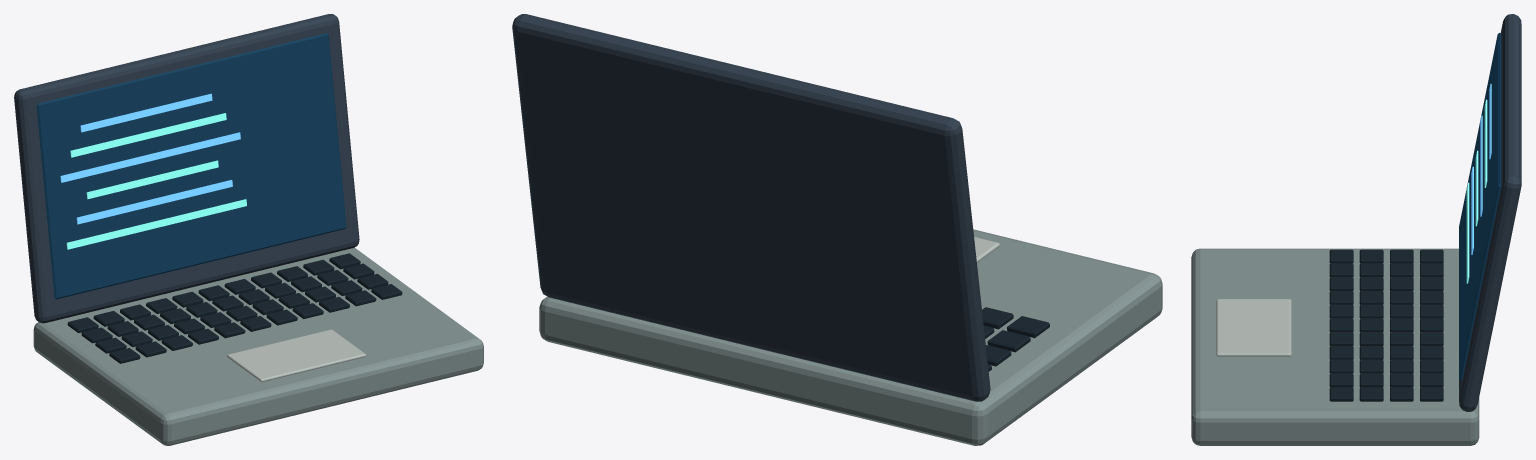
Rendered from laptop.glb.
3 renders of one model, left to right at view 1: azimuth 30°, elevation 25°; view 2: azimuth 150°, elevation 25°; view 3: azimuth 270°, elevation 25°, orthographic. The views are drawn at different scales.
Parts seen in each view (by area): view 1: laptop__screen, laptop__metal_light, laptop__metal, laptop__black, laptop__steel, laptop__code_blue, laptop__code_teal; view 2: laptop__metal, laptop__metal_light, laptop__black; view 3: laptop__metal_light, laptop__black, laptop__metal, laptop__screen, laptop__steel, laptop__code_teal, laptop__code_blue.
Boxes of the visible parts, left/top/right/bottom form: laptop__screen: left=36, top=33, right=346, bottom=299; laptop__metal_light: left=33, top=247, right=483, bottom=445; laptop__metal: left=14, top=14, right=359, bottom=323; laptop__black: left=67, top=253, right=402, bottom=363; laptop__steel: left=227, top=329, right=366, bottom=381; laptop__code_blue: left=60, top=93, right=240, bottom=224; laptop__code_teal: left=66, top=113, right=246, bottom=249; laptop__metal: left=512, top=14, right=990, bottom=401; laptop__metal_light: left=539, top=229, right=1162, bottom=445; laptop__black: left=982, top=307, right=1049, bottom=371; laptop__metal_light: left=1191, top=248, right=1479, bottom=445; laptop__black: left=1329, top=249, right=1443, bottom=401; laptop__metal: left=1459, top=14, right=1521, bottom=411; laptop__screen: left=1459, top=33, right=1501, bottom=380; laptop__steel: left=1216, top=299, right=1291, bottom=356; laptop__code_teal: left=1466, top=99, right=1487, bottom=283; laptop__code_blue: left=1471, top=84, right=1491, bottom=254.
Size of the model in its own units: 0.32 by 0.2367 by 0.2637.
